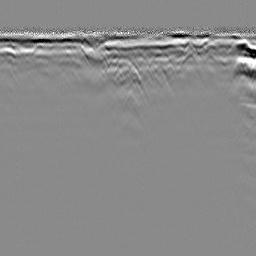cavity: (110, 62, 144, 86)
